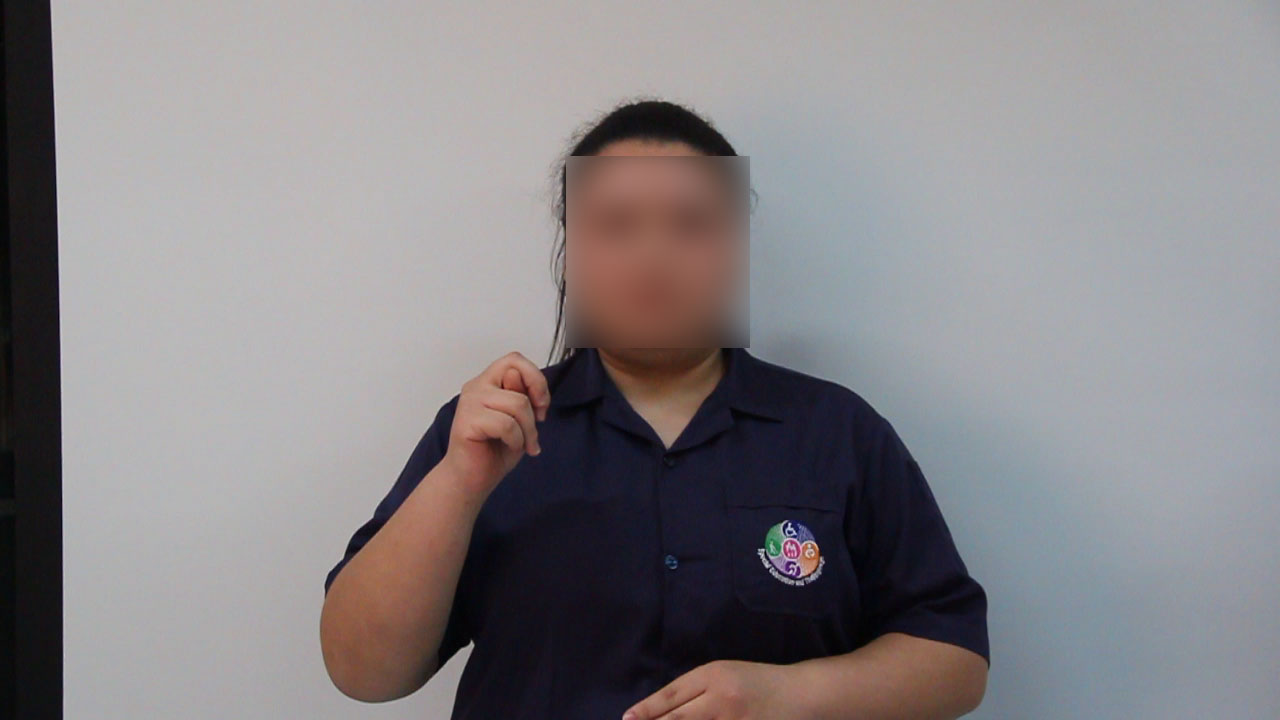nor: (425, 341, 568, 476)
